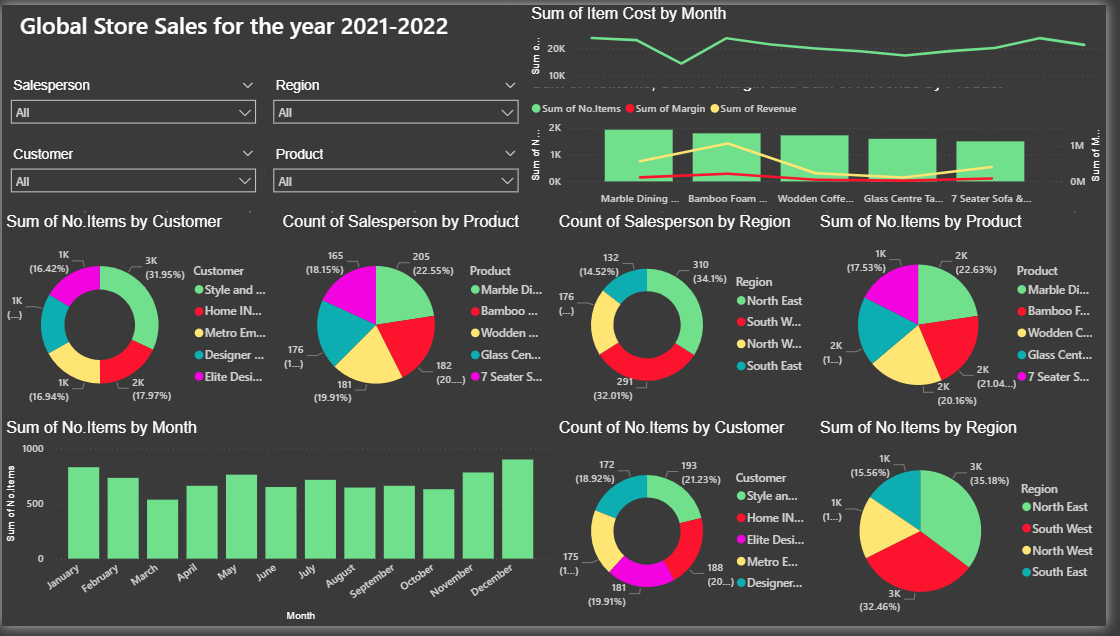

Layout of this report page (visuals, bound fields, positions):
{"tool":"powerbi","page":{"name":"Page 1","canvas":[1280,720],"ordinal":0},"visuals":[{"type":"textbox","box":[16,0,560,80],"z":0},{"type":"donutChart","fields":{"Category":["Raw_Data.Customer"],"Y":["CountNonNull(Raw_Data.No.Items)"]},"box":[640,480,304,240],"z":1000},{"type":"pieChart","fields":{"Category":["Raw_Data.Region"],"Y":["Sum(Raw_Data.No.Items)"]},"box":[944,480,336,240],"z":2000},{"type":"donutChart","fields":{"Category":["Raw_Data.Customer"],"Y":["Sum(Raw_Data.No.Items)"]},"box":[0,240,320,240],"z":3000},{"type":"pieChart","fields":{"Category":["Raw_Data.Product"],"Y":["Sum(Raw_Data.No.Items)"]},"box":[944,240,336,240],"z":4000},{"type":"donutChart","fields":{"Category":["Raw_Data.Region"],"Y":["CountNonNull(Raw_Data.Salesperson)"]},"box":[640,240,304,240],"z":5000},{"type":"slicer","fields":{"Values":["Raw_Data.Product"]},"box":[304,160,304,80],"z":7000},{"type":"slicer","fields":{"Values":["Raw_Data.Customer"]},"box":[0,160,304,80],"z":8000},{"type":"slicer","fields":{"Values":["Raw_Data.Salesperson"]},"box":[0,80,304,80],"z":9000},{"type":"slicer","fields":{"Values":["Raw_Data.Region"]},"box":[304,80,304,80],"z":10000},{"type":"lineClusteredColumnComboChart","fields":{"Category":["Raw_Data.Product"],"Y":["Sum(Raw_Data.No.Items)"],"Y2":["Sum(Raw_Data.Margin)","Sum(Raw_Data.Revenue)"]},"box":[608,80,672,160],"z":11000},{"type":"pieChart","fields":{"Y":["CountNonNull(Raw_Data.Salesperson)"],"Category":["Raw_Data.Product"]},"box":[320,240,320,240],"z":12000},{"type":"lineChart","fields":{"Category":["Raw_Data.Date.Variation.Date Hierarchy.Month"],"Y":["Sum(Raw_Data.Item Cost)"]},"box":[608,0,672,96],"z":13000},{"type":"clusteredColumnChart","fields":{"Category":["Raw_Data.Date.Variation.Date Hierarchy.Month"],"Y":["Sum(Raw_Data.No.Items)"]},"box":[0,480,640,240],"z":14000}]}

Visuals, with their boxes in screenshot pixels (x1, y1, x2, y2), scaled from the page's 1280x720 canvas onto the 1120x636 screenshot:
textbox: region(14, 0, 504, 71)
donutChart - Raw_Data.Customer x CountNonNull(Raw_Data.No.Items): region(560, 424, 826, 635)
pieChart - Raw_Data.Region x Sum(Raw_Data.No.Items): region(826, 424, 1119, 635)
donutChart - Raw_Data.Customer x Sum(Raw_Data.No.Items): region(0, 212, 280, 424)
pieChart - Raw_Data.Product x Sum(Raw_Data.No.Items): region(826, 212, 1119, 424)
donutChart - Raw_Data.Region x CountNonNull(Raw_Data.Salesperson): region(560, 212, 826, 424)
slicer - Raw_Data.Product: region(266, 141, 532, 212)
slicer - Raw_Data.Customer: region(0, 141, 266, 212)
slicer - Raw_Data.Salesperson: region(0, 71, 266, 141)
slicer - Raw_Data.Region: region(266, 71, 532, 141)
lineClusteredColumnComboChart - Raw_Data.Product x Sum(Raw_Data.No.Items): region(532, 71, 1119, 212)
pieChart - CountNonNull(Raw_Data.Salesperson) x Raw_Data.Product: region(280, 212, 560, 424)
lineChart - Raw_Data.Date.Variation.Date Hierarchy.Month x Sum(Raw_Data.Item Cost): region(532, 0, 1119, 85)
clusteredColumnChart - Raw_Data.Date.Variation.Date Hierarchy.Month x Sum(Raw_Data.No.Items): region(0, 424, 560, 635)
